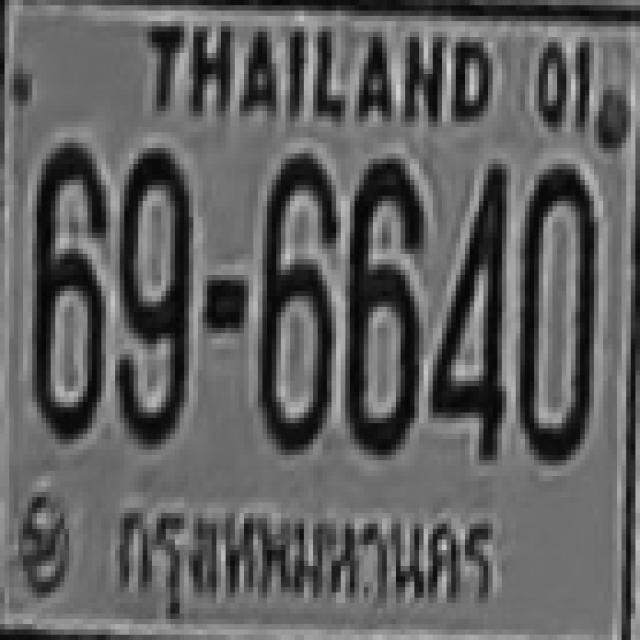0: (124, 143, 194, 333)
4: (428, 185, 502, 455)
Bangkok: (104, 484, 516, 632)
